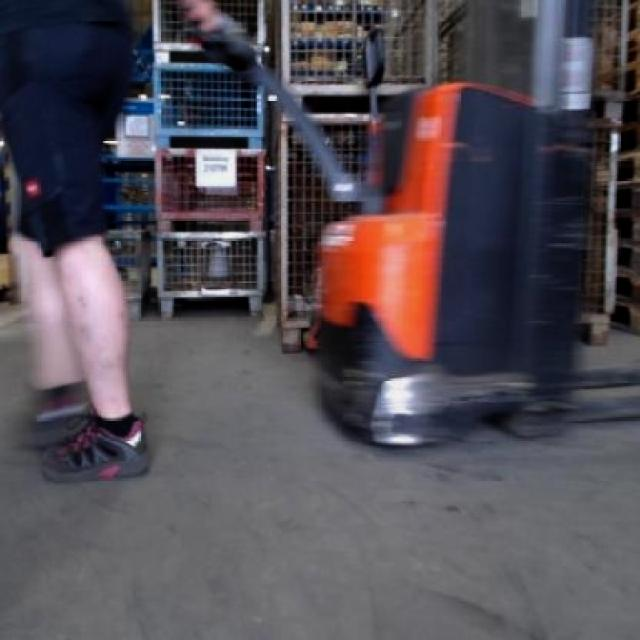pallets: (154, 148, 263, 312)
